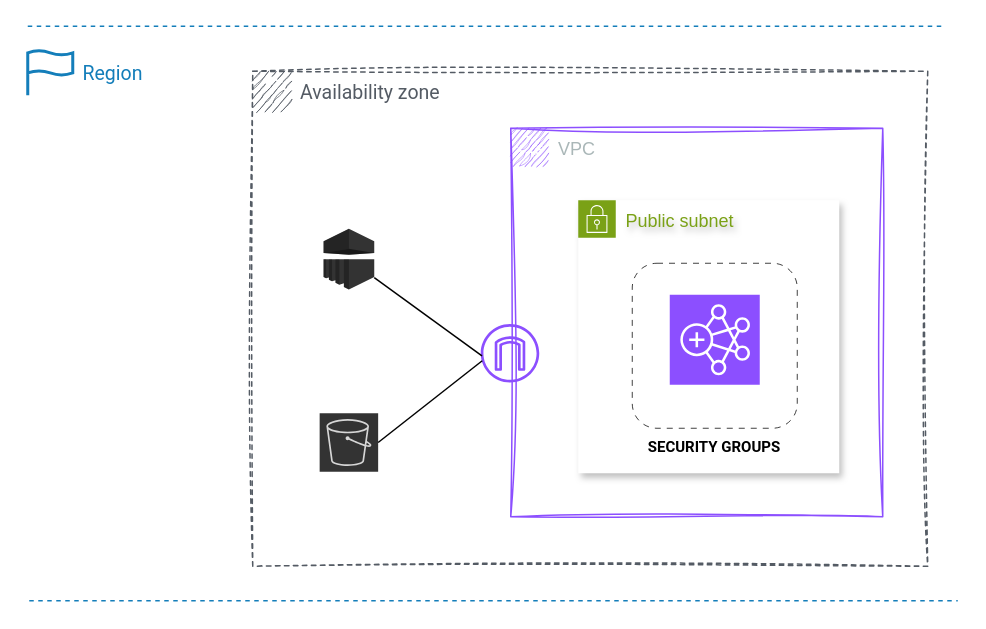
This 986x629 diagram has some shape labels left out. The centre of each missing label's shape, as x and y in pixels:
"EMR" goes at [714,339].
"EMR Service" goes at [348,258].
"S3 Bucket" goes at [348,442].
